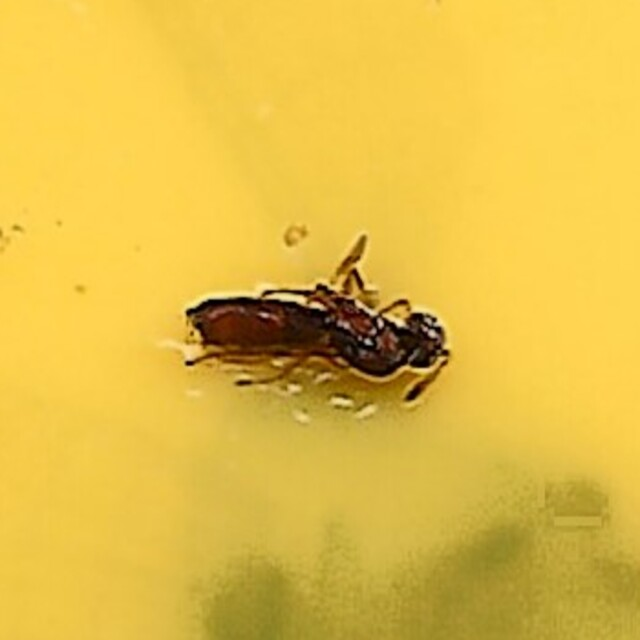Hymenoptera: (183, 229, 457, 411)
